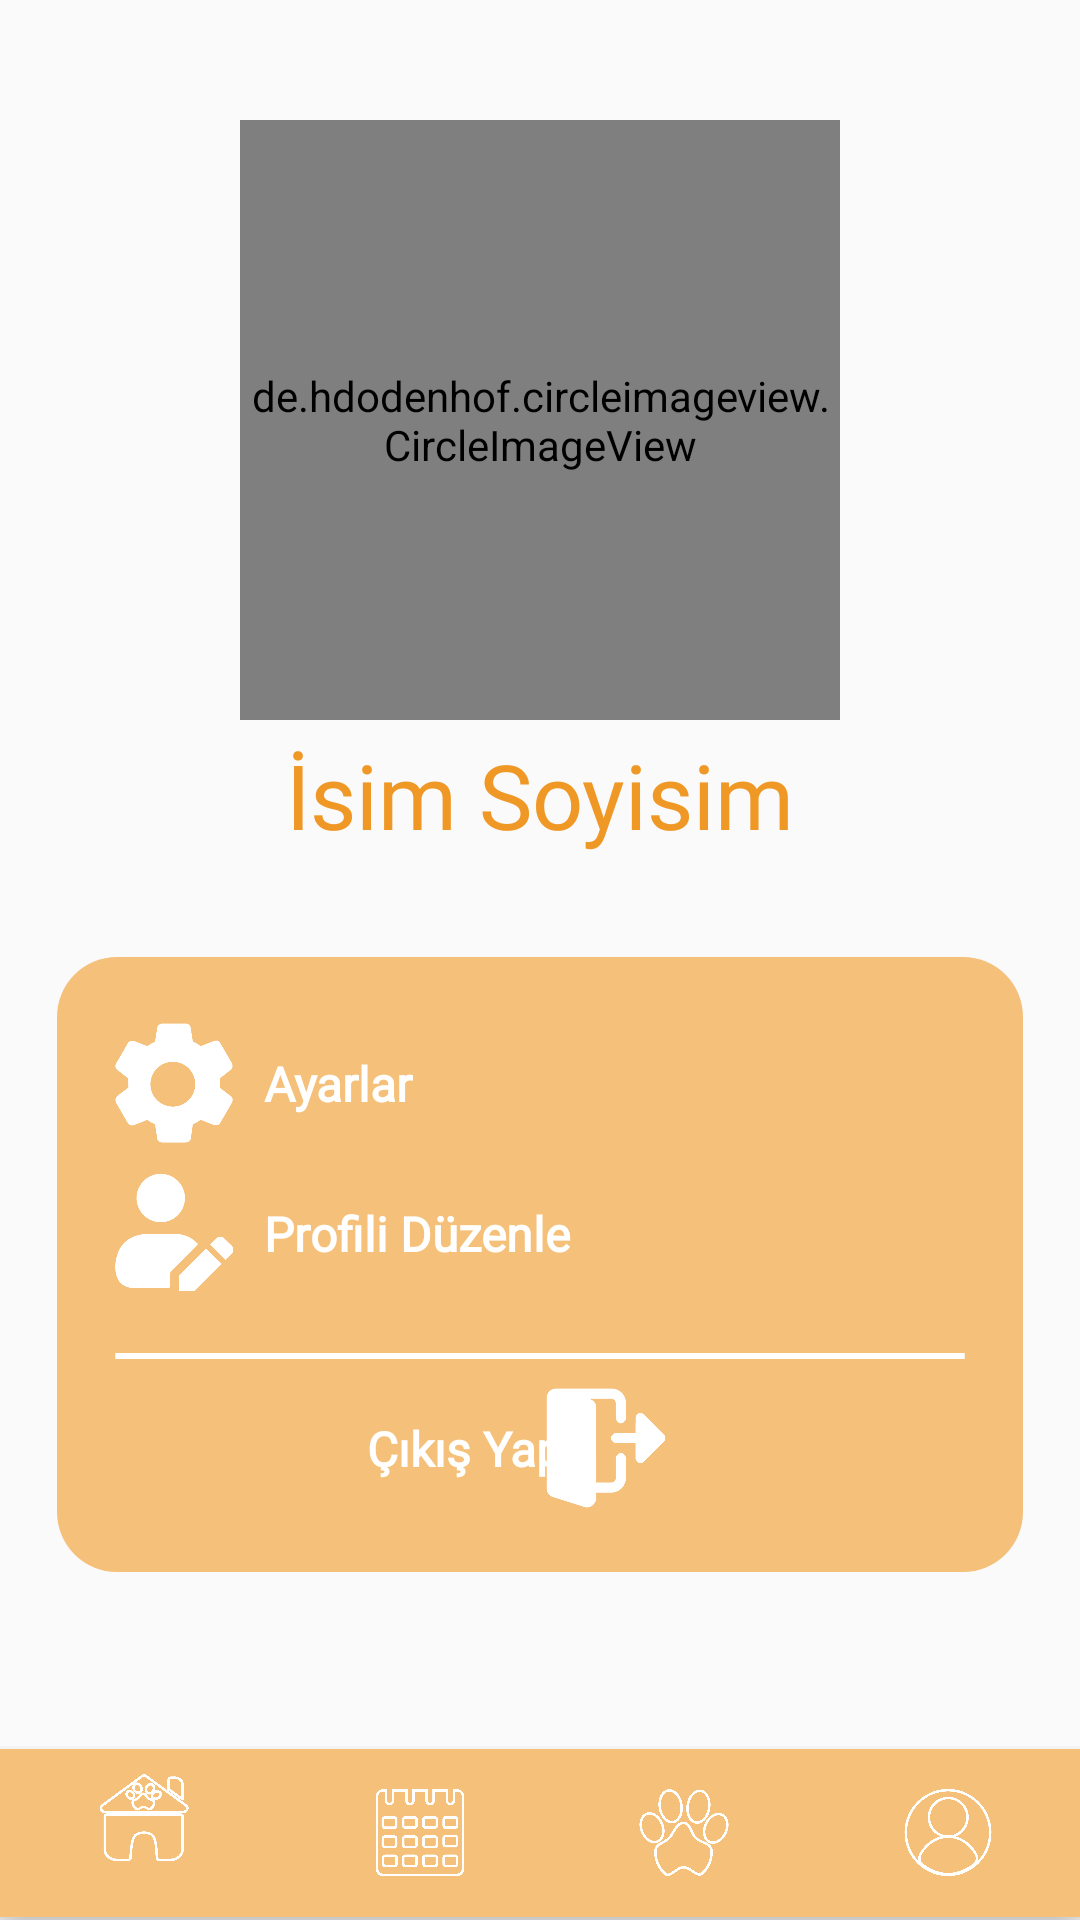

Icons on this 1080x1920 Android screen, each with its box as (x1, y1, x2, y2):
editprofile: (115, 1174, 233, 1291)
setting: (115, 1023, 233, 1143)
